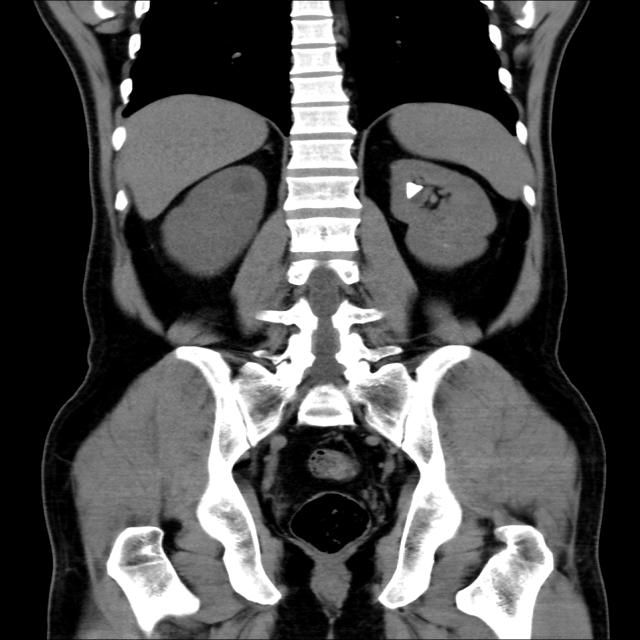kidneystone: (405, 182, 424, 198)
